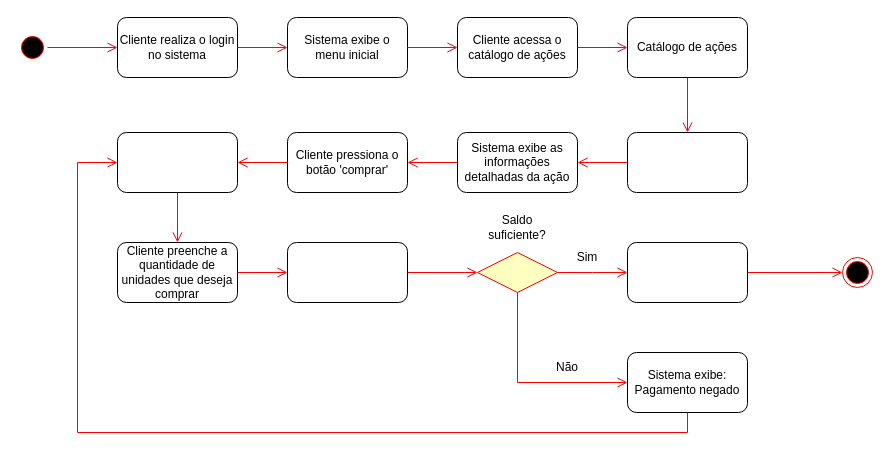
Image size: 890x460. Some labels were removed from this diagram. Each missing label, with the centre of its shape:
"Cliente seleciona a ação de seu interesse de compra" belongs at pixel 687 162.
"Sistema exibe input de unidades da ação" belongs at pixel 177 162.
"Sistema gera a ordem de compra" belongs at pixel 687 272.
"Sistema verifica se o saldo na carteira é o suficiente" belongs at pixel 347 272.
